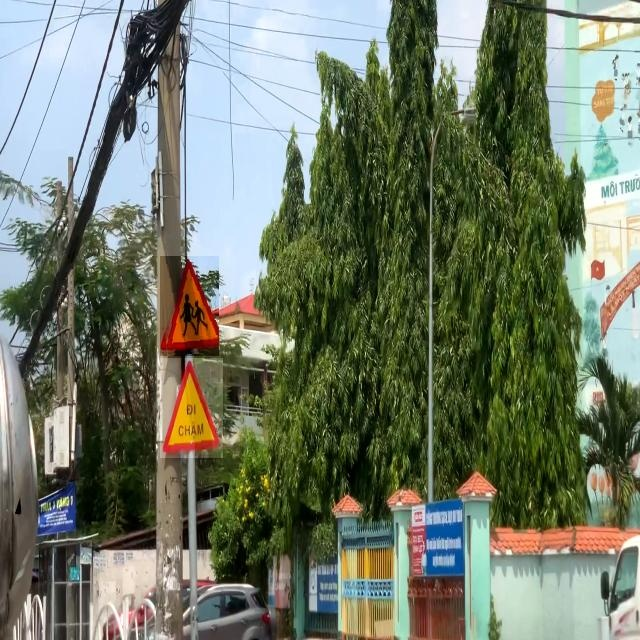bien_nguy_hiem: (160, 358, 223, 458), (160, 256, 219, 356)
